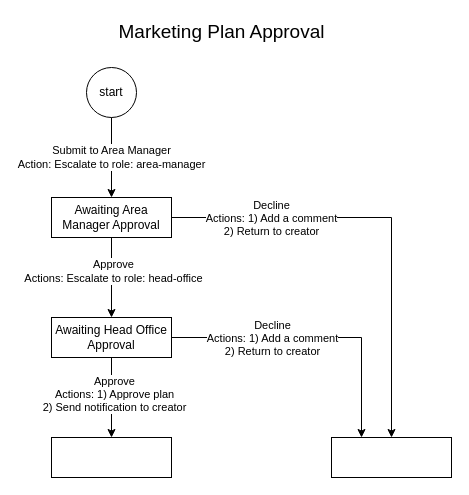
Image size: 469x495. Some labels were removed from this diagram. Here are the shapes that lost their labels. From the top down, the centre of each, then its label:
the point at 111,457: Approved
the point at 391,457: Declined
